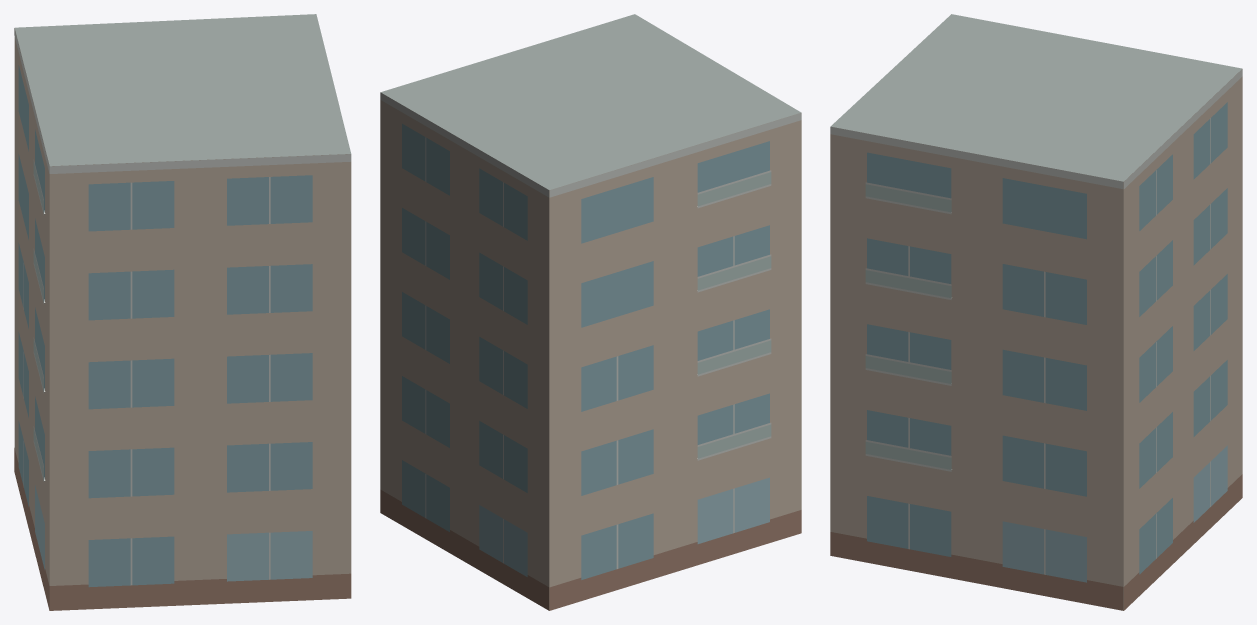
File: survey-upis-32530096.glb
3 views of the same model, side by side, from view 1: azimuth 30°, elevation 25°; view 2: azimuth 150°, elevation 25°; view 3: azimuth 270°, elevation 25° (orthographic). The views are drawn at different scales.
Parts seen in each view (by area): view 1: survey-upis-32530096.tmp; view 2: survey-upis-32530096.tmp; view 3: survey-upis-32530096.tmp.
Part boxes in pixels (x1,y1,x2,y2): survey-upis-32530096.tmp: (14,14,351,610); survey-upis-32530096.tmp: (380,14,801,610); survey-upis-32530096.tmp: (830,14,1242,610).
Bounding box in the file's own units: 11.49 × 13.7 × 11.94.
